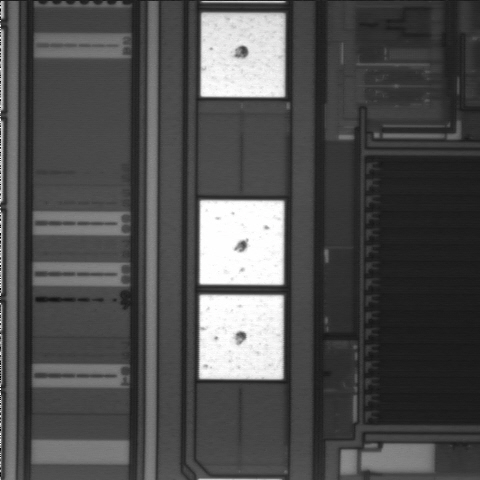pad: (199, 200, 284, 285), (199, 295, 284, 379), (201, 13, 285, 97)
